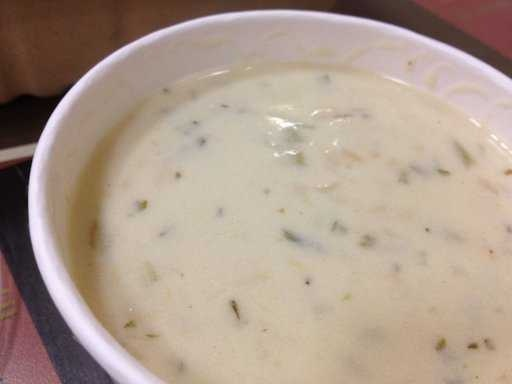soup: (40, 37, 510, 384)
